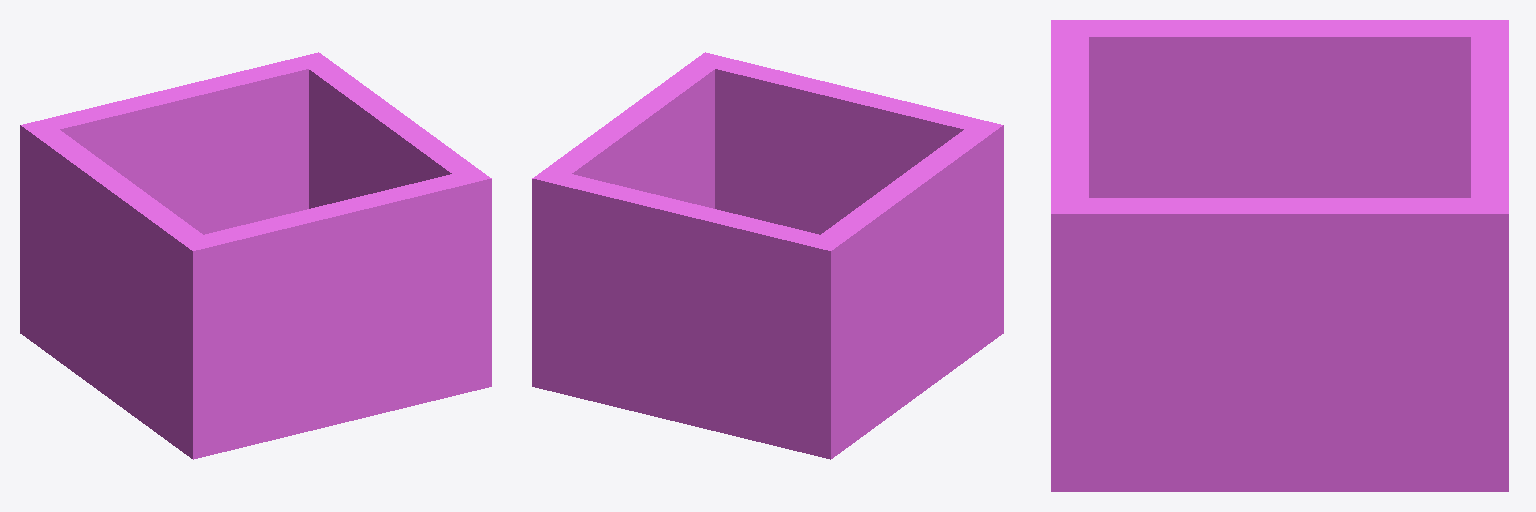
URDF robot description (cabinet):
<robot name="cabinet">
  <material name="pink"><color rgba="1.0 0.5 1.0 1.0"/></material>
  <link name="base_link">
    <inertial>
      <mass value="0"/>
      <origin xyz="0 0 0" rpy="0 0 0"/>
      <inertia ixx="0"  ixy="0"  ixz="0" iyy="0" iyz="0" izz="0" />
    </inertial>
  </link>
  <link name="left_plate">
    <inertial>
      <mass value="5.0" />
      <origin xyz="0 0 0" /> 
      <inertia  ixx="1" ixy="0"  ixz="0"  iyy="1"  iyz="0"  izz="1" />
    </inertial>
    <visual>
      <origin xyz="0 0 0" rpy="0 0 0" />
      <geometry>
        <box size="0.12 0.01 0.08"/>
      </geometry>
      <material name="pink"/>
    </visual>
    <collision>
      <origin xyz="0 0 0" rpy="0 0 0" />
      <geometry>
        <box size="0.12 0.01 0.08"/>
      </geometry>
    </collision>
  </link>
  <link name="right_plate">
    <inertial>
      <mass value="5.0" />
      <origin xyz="0 0 0" /> 
      <inertia  ixx="1" ixy="0"  ixz="0"  iyy="1"  iyz="0"  izz="1" />
    </inertial>
    <visual>
      <origin xyz="0 0 0" rpy="0 0 0" />
      <geometry>
        <box size="0.12 0.01 0.08"/>
      </geometry>
      <material name="pink"/>
    </visual>
    <collision>
      <origin xyz="0 0 0" rpy="0 0 0" />
      <geometry>
        <box size="0.12 0.01 0.08"/>
      </geometry>
    </collision>
  </link>
  <link name="back_plate">
    <inertial>
      <mass value="5.0" />
      <origin xyz="0 0 0" /> 
      <inertia  ixx="1" ixy="0"  ixz="0"  iyy="1"  iyz="0"  izz="1" />
    </inertial>
    <visual>
      <origin xyz="0 0 0" rpy="0 0 0" />
      <geometry>
        <box size="0.01 0.12 0.08"/>
      </geometry>
      <material name="pink"/>
    </visual>
    <collision>
      <origin xyz="0 0 0" rpy="0 0 0" />
      <geometry>
        <box size="0.01 0.12 0.08"/>
      </geometry>
    </collision>
  </link>
  <link name="front_plate">
    <inertial>
      <mass value="5.0" />
      <origin xyz="0 0 0" /> 
      <inertia  ixx="1" ixy="0"  ixz="0"  iyy="1"  iyz="0"  izz="1" />
    </inertial>
    <visual>
      <origin xyz="0 0 0" rpy="0 0 0" />
      <geometry>
        <box size="0.01 0.12 0.08"/>
      </geometry>
      <material name="pink"/>
    </visual>
    <collision>
      <origin xyz="0 0 0" rpy="0 0 0" />
      <geometry>
        <box size="0.01 0.12 0.08"/>
      </geometry>
    </collision>
  </link>
  <joint name="left_plate" type="fixed">
    <parent link="base_link"/>
    <child link="left_plate"/>
    <origin xyz="0.00 0.055 0.05"/>
  </joint>
  <joint name="right_plate" type="fixed">
    <parent link="base_link"/>
    <child link="right_plate"/>
    <origin xyz="0.00 -0.055 0.05"/>
  </joint>
  <joint name="back_plate" type="fixed">
    <parent link="base_link"/>
    <child link="back_plate"/>
    <origin xyz="0.055 0.00 0.05"/>
  </joint>
  <joint name="front_plate" type="fixed">
    <parent link="base_link"/>
    <child link="front_plate"/>
    <origin xyz="-0.055 0.00 0.05"/>
  </joint>
</robot>

--- Render facts (derived) ---
3 views of the same robot in one strip: view 1: azimuth 30°, elevation 25°; view 2: azimuth 150°, elevation 25°; view 3: azimuth 270°, elevation 25° (orthographic).
Robot: cabinet — 5 links, 4 joints (4 fixed); root link base_link; default pose: all joints at 0.
Visible links, largest first — view 1: right_plate, front_plate, left_plate, back_plate; view 2: left_plate, front_plate, right_plate, back_plate; view 3: back_plate, front_plate, left_plate, right_plate.
Link boxes in pixels (x1,y1,x2,y2): right_plate: (179, 169, 491, 459); front_plate: (20, 120, 217, 458); left_plate: (20, 53, 332, 343); back_plate: (297, 52, 491, 389); left_plate: (532, 168, 844, 458); front_plate: (806, 121, 1003, 459); right_plate: (691, 53, 1003, 335); back_plate: (532, 52, 729, 391); back_plate: (1051, 198, 1508, 491); front_plate: (1051, 20, 1508, 197); left_plate: (1471, 20, 1508, 491); right_plate: (1051, 20, 1088, 491).
Size in the robot's own frame: 0.12 by 0.12 by 0.08 metres.
Geometry: primitives only (box / cylinder / sphere), no mesh files.